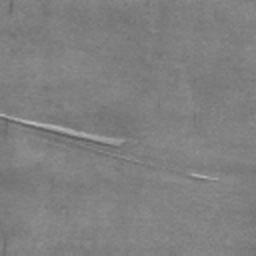Finishing roll printing: (0, 111, 150, 166), (182, 172, 219, 183)
